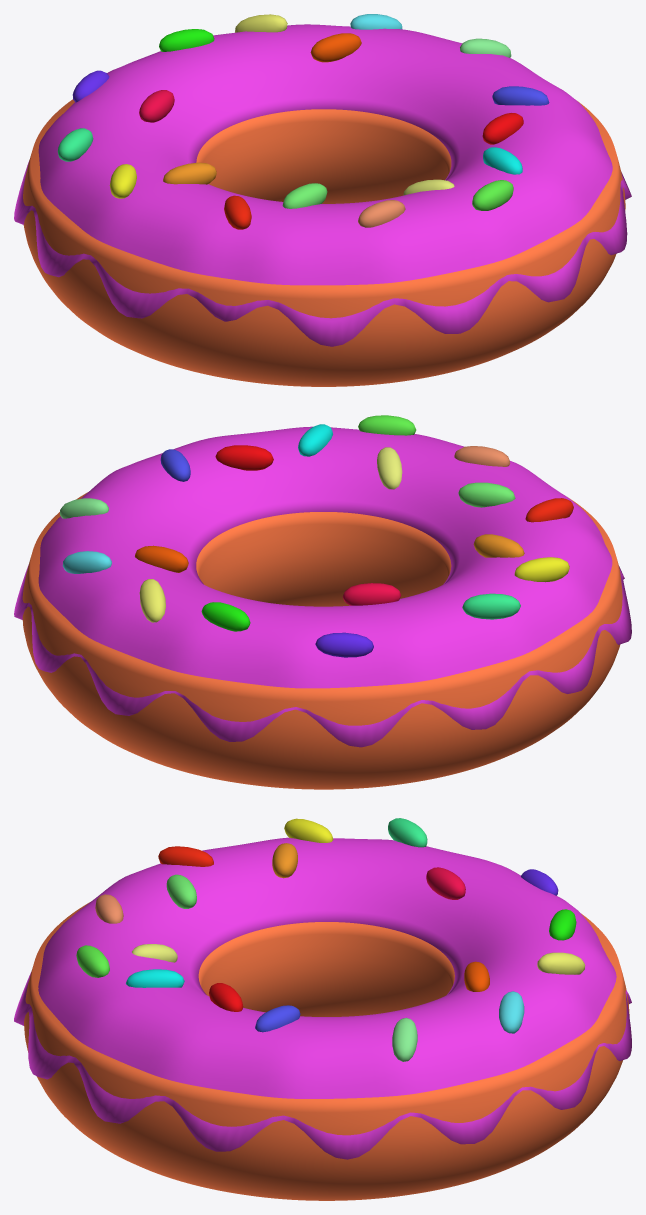
The model's file is Postre.fbx.
The picture shows the model from 3 angles, top to bottom: view 1: azimuth 30°, elevation 25°; view 2: azimuth 150°, elevation 25°; view 3: azimuth 270°, elevation 25°; orthographic projection.
Visible parts, largest first — view 1: Torus.001, Torus, Cube.017, Cube.010, Cube, Cube.005, Cube.014, Cube.006, Cube.002, Cube.012, Cube.011, Cube.007 (+7 smaller); view 2: Torus.001, Torus, Cube.011, Cube.002, Cube.013, Cube.007, Cube.021, Cube.012, Cube.014, Cube.017, Cube.005, Cube.010 (+8 smaller); view 3: Torus.001, Torus, Cube.003, Cube.012, Cube.009, Cube.020, Cube.016, Cube.019, Cube.021, Cube.011, Cube, Cube.005 (+8 smaller).
Part boxes in pixels (<box>): Torus.001: <box>14,24,631,346</box>; Torus: <box>23,99,625,386</box>; Cube.017: <box>310,33,361,62</box>; Cube.010: <box>163,162,216,184</box>; Cube: <box>492,86,549,105</box>; Cube.005: <box>472,180,513,210</box>; Cube.014: <box>159,29,214,51</box>; Cube.006: <box>358,200,405,227</box>; Cube.002: <box>482,113,523,144</box>; Cube.012: <box>139,90,174,122</box>; Cube.011: <box>57,128,93,161</box>; Cube.007: <box>282,183,327,208</box>; Torus.001: <box>14,426,631,747</box>; Torus: <box>22,492,622,789</box>; Cube.011: <box>462,593,520,619</box>; Cube.002: <box>215,445,273,470</box>; Cube.013: <box>315,632,373,657</box>; Cube.007: <box>458,482,515,507</box>; Cube.021: <box>514,557,569,582</box>; Cube.012: <box>342,583,401,605</box>; Cube.014: <box>201,602,250,631</box>; Cube.017: <box>135,545,188,572</box>; Cube.005: <box>358,415,416,435</box>; Cube.010: <box>473,534,524,557</box>; Torus.001: <box>14,837,631,1159</box>; Torus: <box>24,902,629,1200</box>; Cube.003: <box>126,969,184,987</box>; Cube.012: <box>426,867,465,899</box>; Cube.009: <box>158,846,213,866</box>; Cube.020: <box>392,1017,417,1061</box>; Cube.016: <box>537,952,585,974</box>; Cube.019: <box>499,991,524,1033</box>; Cube.021: <box>284,818,333,842</box>; Cube.011: <box>388,818,427,847</box>; Cube: <box>255,1005,300,1032</box>; Cube.005: <box>76,945,109,977</box>.
Size of the model in its own units: 162 by 51.05 by 160.
